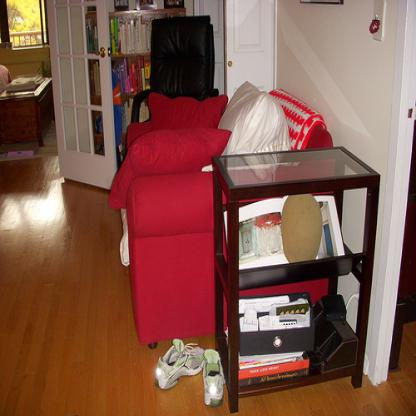chair: (130, 15, 218, 126)
sofa: (127, 85, 334, 350)
